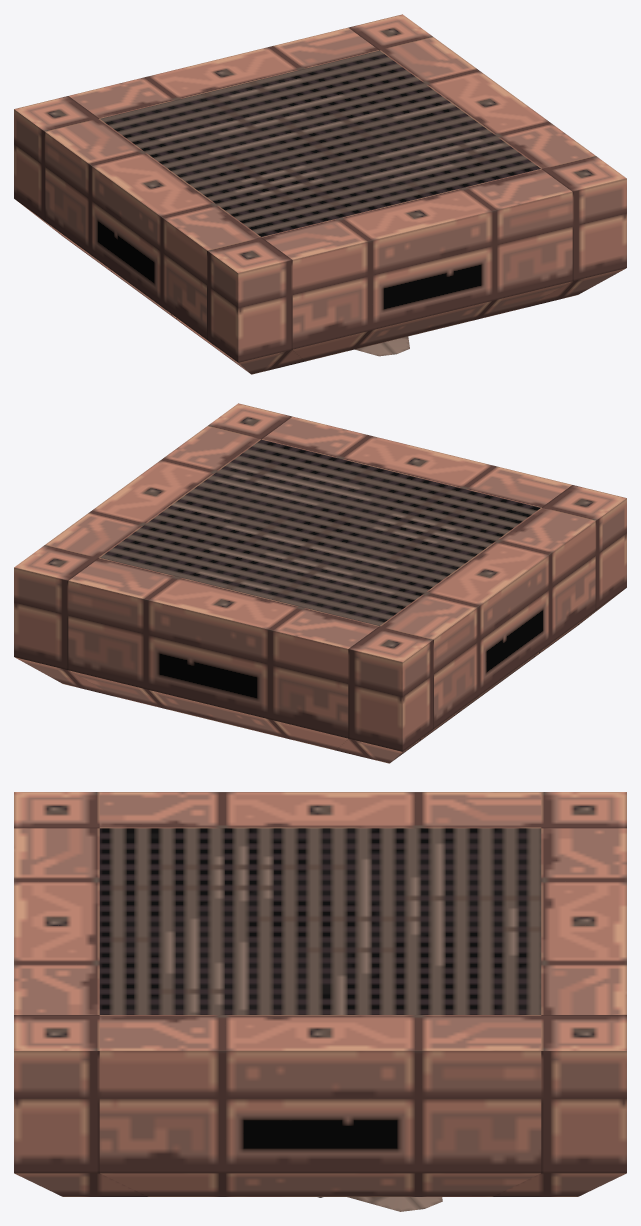
Rendered from FloatingPlatform_1x1_Stone.fbx.
3 renders of one model, top to bottom at view 1: azimuth 30°, elevation 25°; view 2: azimuth 150°, elevation 25°; view 3: azimuth 270°, elevation 25°, orthographic. The views are drawn at different scales.
Visible parts, largest first — view 1: Platform, Fan; view 2: Platform; view 3: Platform, Fan.
Part boxes in pixels (x1=…): Platform: x1=14, y1=14, x2=626, y2=374; Fan: x1=355, y1=336, x2=409, y2=356; Platform: x1=14, y1=403, x2=626, y2=763; Platform: x1=14, y1=792, x2=626, y2=1197; Fan: x1=347, y1=1197, x2=442, y2=1211.
Bounding box in the file's own units: 25 × 11.5 × 25.
